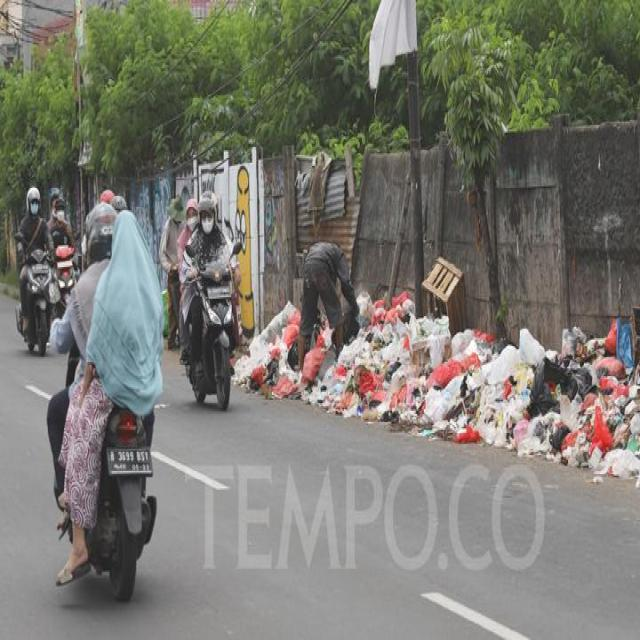trash: (365, 270, 640, 454)
